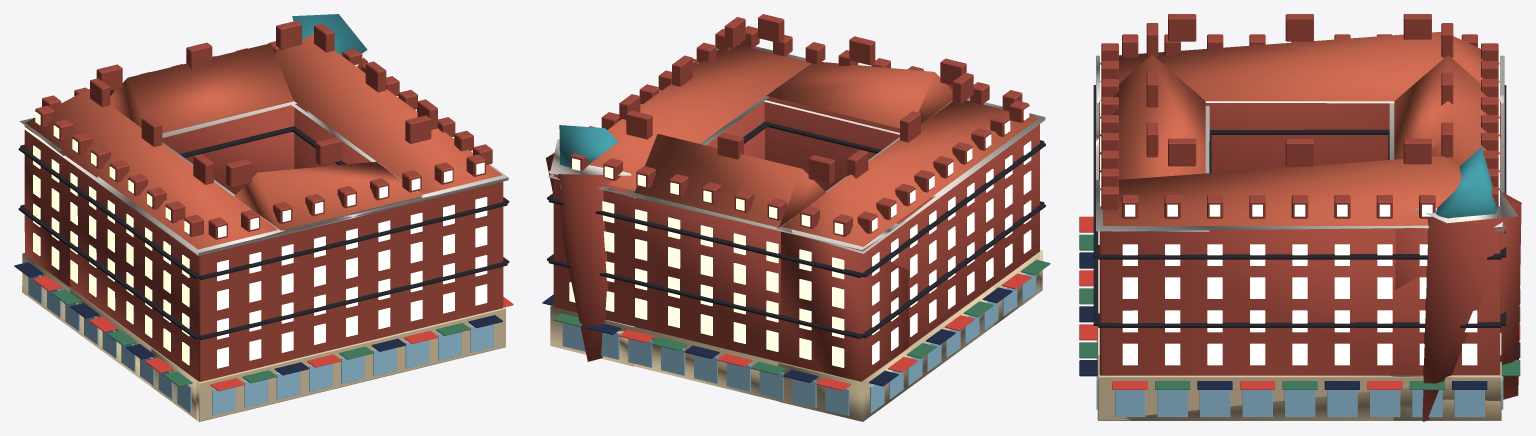
Rendered from city_block_b.glb.
3 views of the same model, side by side, from view 1: azimuth 30°, elevation 25°; view 2: azimuth 150°, elevation 25°; view 3: azimuth 270°, elevation 25° (orthographic). The views are drawn at different scales.
Parts seen in each view (by area): view 1: city_block_b; view 2: city_block_b; view 3: city_block_b.
Part boxes in pixels (x1,y1,x2,y2): city_block_b: (14,14,513,421); city_block_b: (542,14,1050,421); city_block_b: (1079,14,1521,421).
Size of the model in its own units: 37.67 by 24.1 by 37.49.
Materials: 1 (1 with a texture image).
